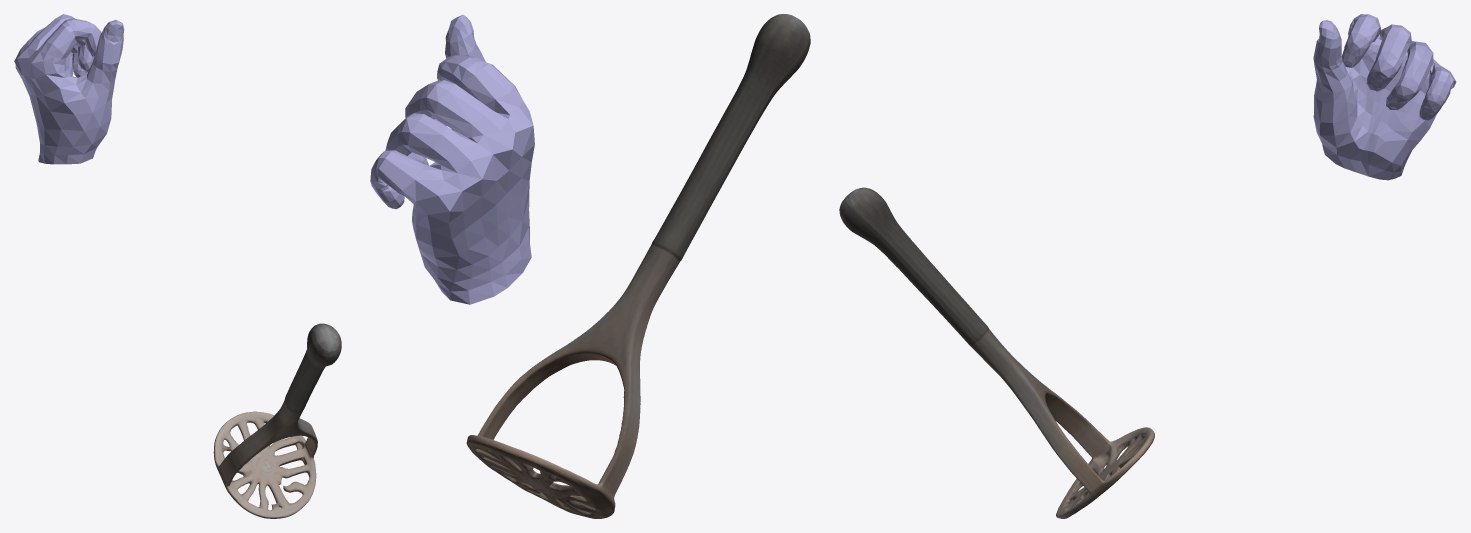
File: frame_0090_source_000090_hand_object.glb
3 renders of one model, left to right at view 1: azimuth 30°, elevation 25°; view 2: azimuth 150°, elevation 25°; view 3: azimuth 270°, elevation 25°, orthographic. The views are drawn at different scales.
Visible parts, largest first — view 1: world; view 2: world; view 3: world.
Part boxes in pixels (box(x1,y1,x2,y2)): world: box(14, 14, 341, 518); world: box(370, 14, 810, 518); world: box(839, 14, 1456, 518).
Bounding box in the file's own units: 0.1319 × 0.3361 × 0.4019.
